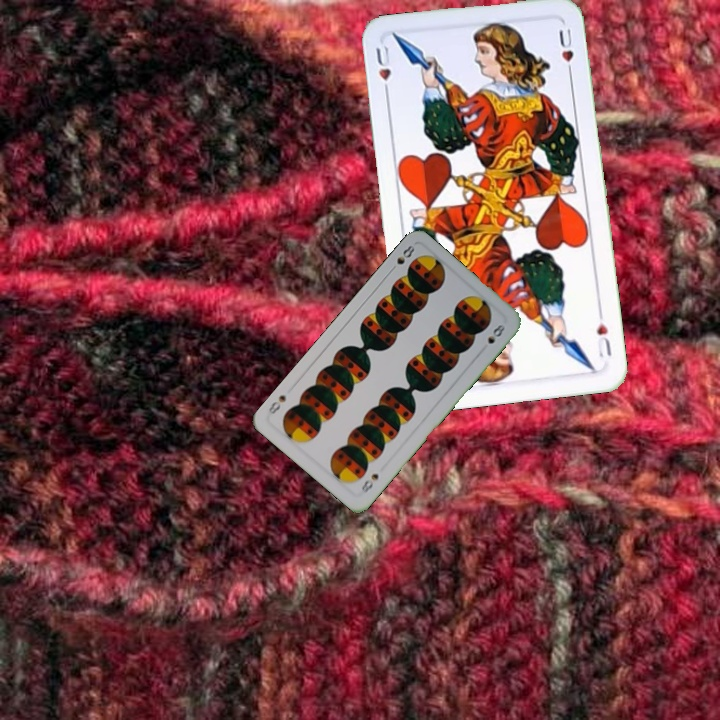HU: (372, 42, 394, 99), (593, 307, 614, 360)
S8: (386, 241, 417, 275), (357, 469, 381, 496)
